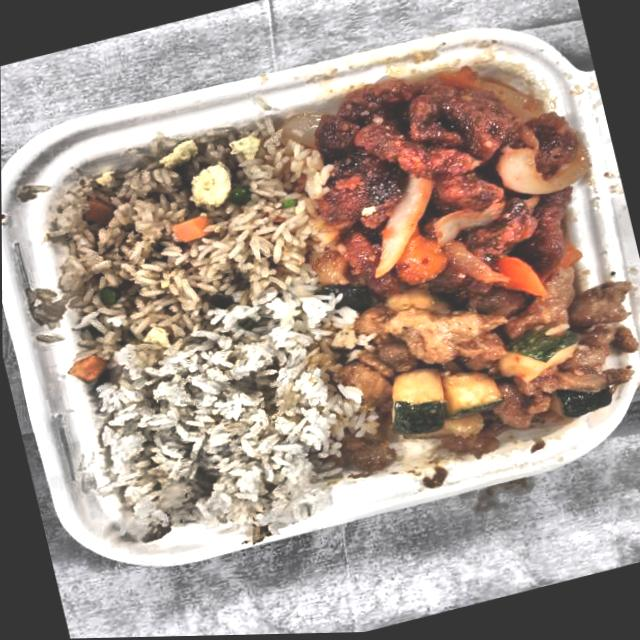Food: (263, 24, 625, 333), (32, 105, 360, 391), (309, 238, 640, 491), (73, 320, 356, 555)
